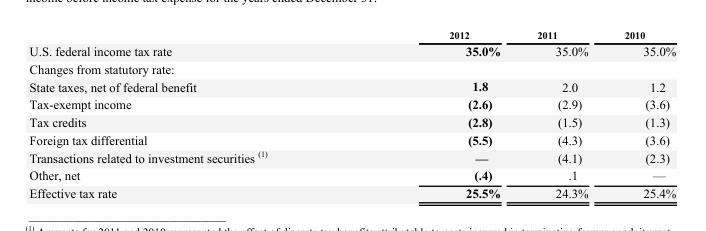table: (28, 28, 675, 200)
table column: (28, 28, 357, 200), (357, 28, 518, 200), (518, 28, 605, 200), (605, 28, 675, 200)
table column header: (28, 28, 675, 41)
table projected row header: (28, 59, 675, 77)
table row: (28, 147, 675, 166), (28, 41, 675, 59), (28, 59, 675, 77), (28, 77, 675, 95), (28, 112, 675, 130), (28, 166, 675, 184), (28, 95, 675, 112), (28, 130, 675, 147), (28, 184, 675, 200), (28, 28, 675, 41)
